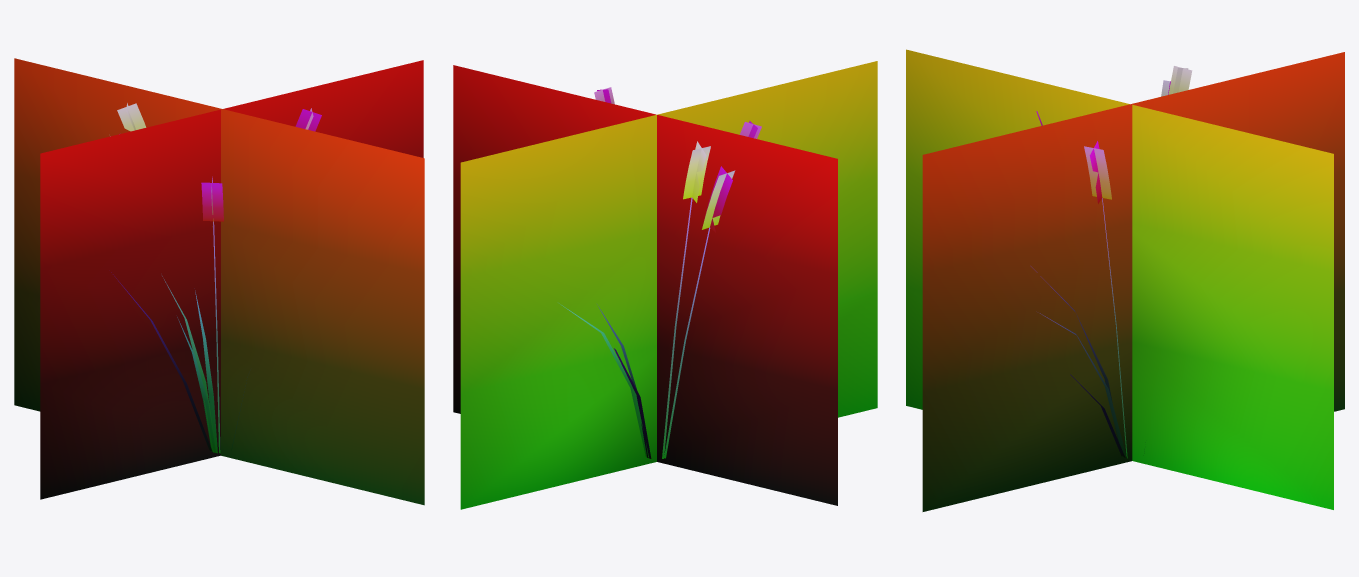
File: Grass_Cogon_B.fbx
The picture shows the model from 3 angles, left to right: view 1: azimuth 30°, elevation 25°; view 2: azimuth 150°, elevation 25°; view 3: azimuth 270°, elevation 25°; orthographic projection. The views are drawn at different scales.
Parts seen in each view (by area): view 1: Grass_Cogon_B_LOD0; view 2: Grass_Cogon_B_LOD0; view 3: Grass_Cogon_B_LOD0.
Part boxes in pixels (x1,y1,x2,y2): Grass_Cogon_B_LOD0: (14,58,424,505); Grass_Cogon_B_LOD0: (453,61,877,509); Grass_Cogon_B_LOD0: (906,49,1344,511).
Size of what is drawn, in the model's own units: 1.06 by 0.9244 by 1.02.
